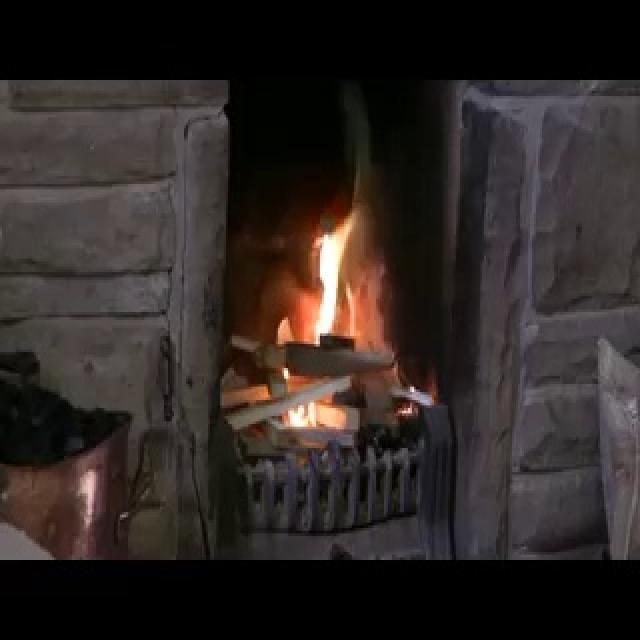fire: (287, 202, 365, 350)
